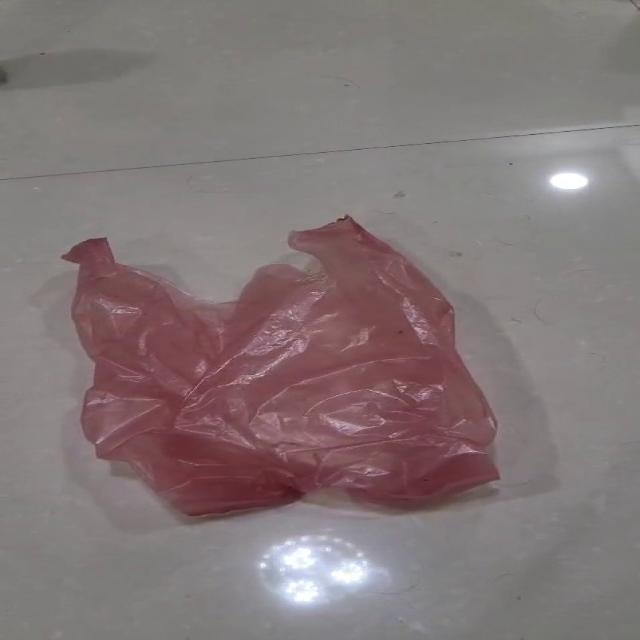plastic: (60, 213, 501, 518)
